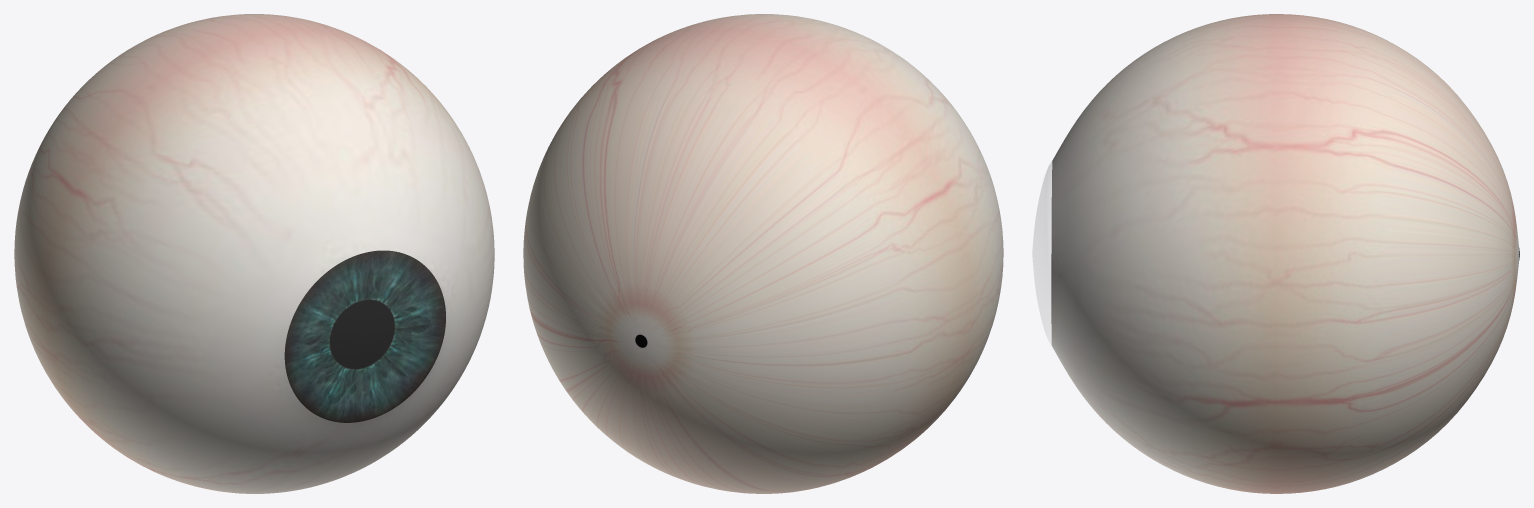
File: eye.fbx
3 renders of one model, left to right at view 1: azimuth 30°, elevation 25°; view 2: azimuth 150°, elevation 25°; view 3: azimuth 270°, elevation 25°, orthographic.
Parts seen in each view (by area): view 1: eyeball_1, eyeball_1.003, eyeball_1.002, eyeball_1.001; view 2: eyeball_1; view 3: eyeball_1, eyeball_1.003.
Boxes of the visible parts, x1,y1,x2,y2 form: eyeball_1: [14, 14, 494, 493]; eyeball_1.003: [285, 251, 445, 422]; eyeball_1.002: [284, 250, 445, 422]; eyeball_1.001: [330, 300, 394, 368]; eyeball_1: [523, 14, 1003, 493]; eyeball_1: [1051, 14, 1519, 493]; eyeball_1.003: [1032, 162, 1051, 344].
Size of the model in its own units: 386 by 386 by 392.
